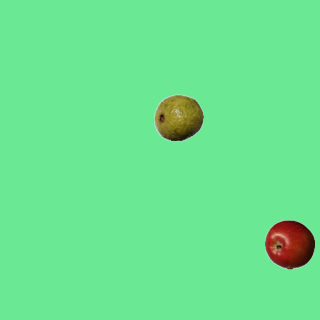Apple Braeburn: (264, 219, 314, 269)
Guava: (153, 92, 203, 142)
